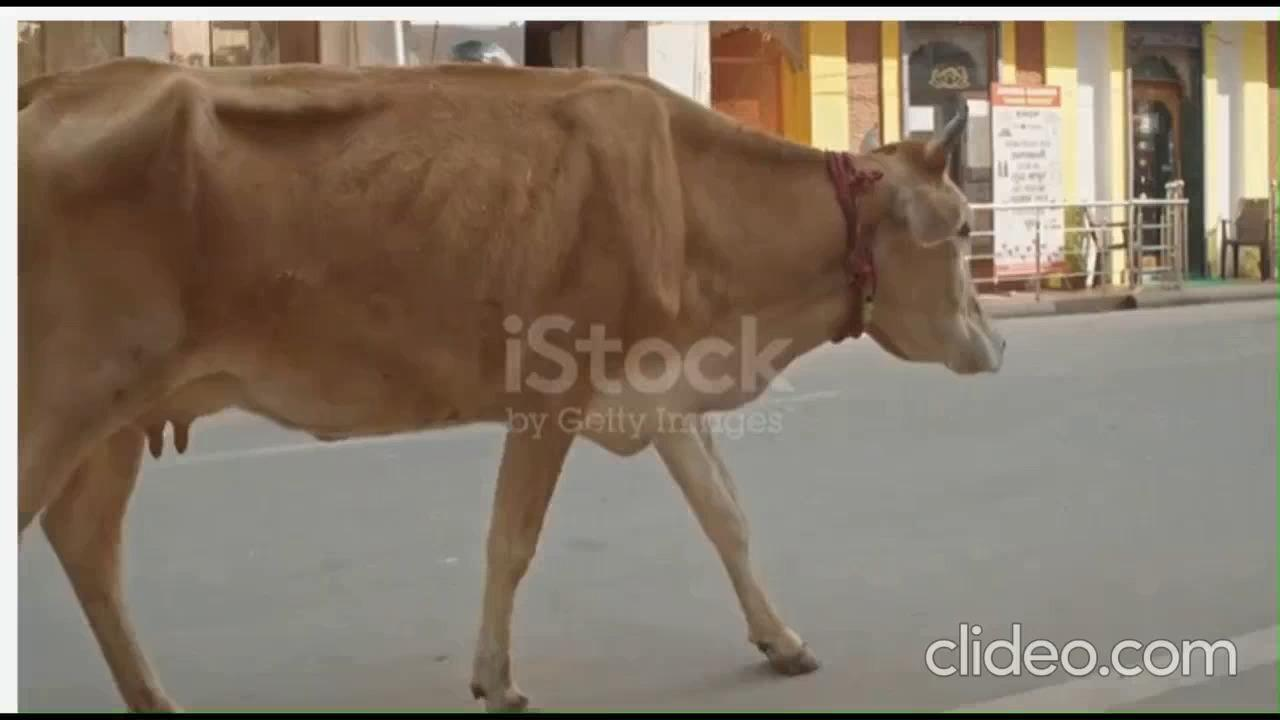Cow: (11, 59, 981, 710)
